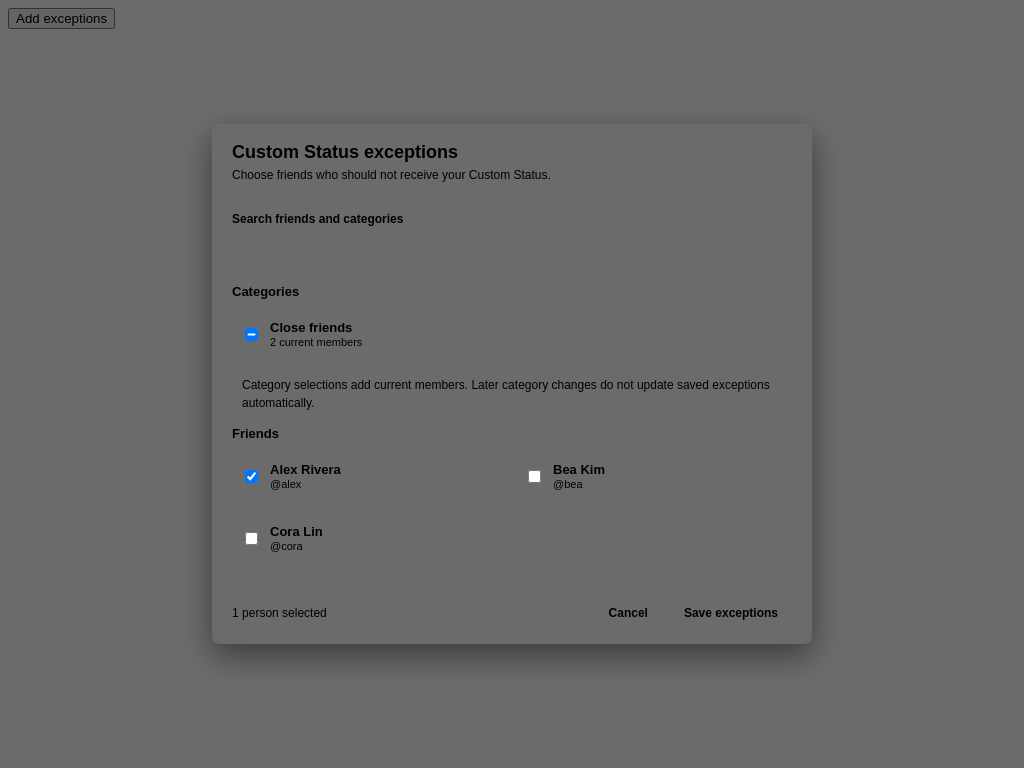
it: PresenceExceptionModal › exposes a partially selected category as mixed
Click the checkbox labelled "Close friends 2 current members".
click(252, 334)  # box [245, 328, 258, 340]
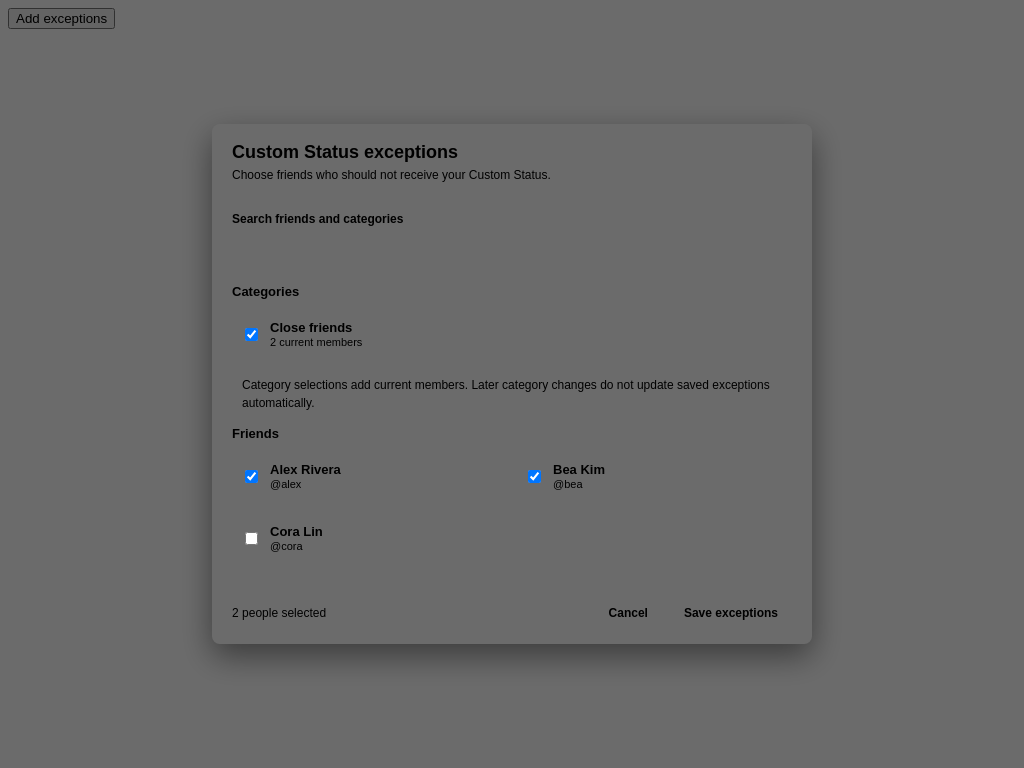
Check: the checkbox labelled "Close friends 2 current members" is checked, box [245, 328, 258, 340]
Check: the text "2 people selected" is shown, box [232, 606, 326, 620]
